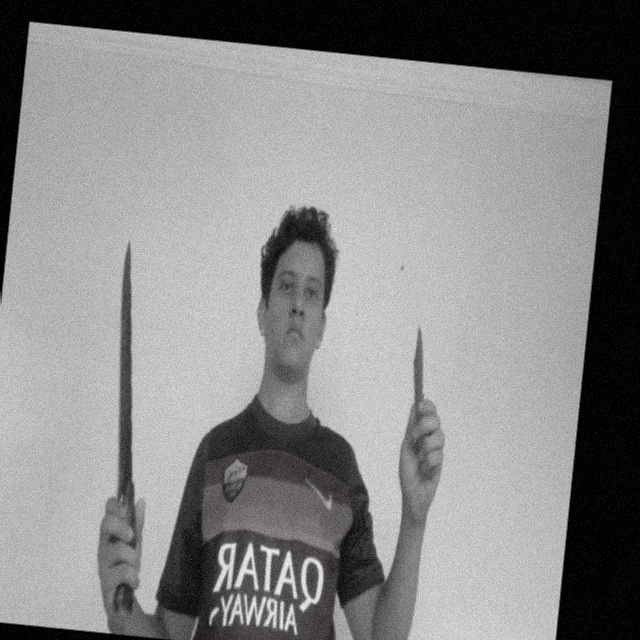Sharp-Object: (98, 239, 156, 493), (409, 325, 429, 391)
